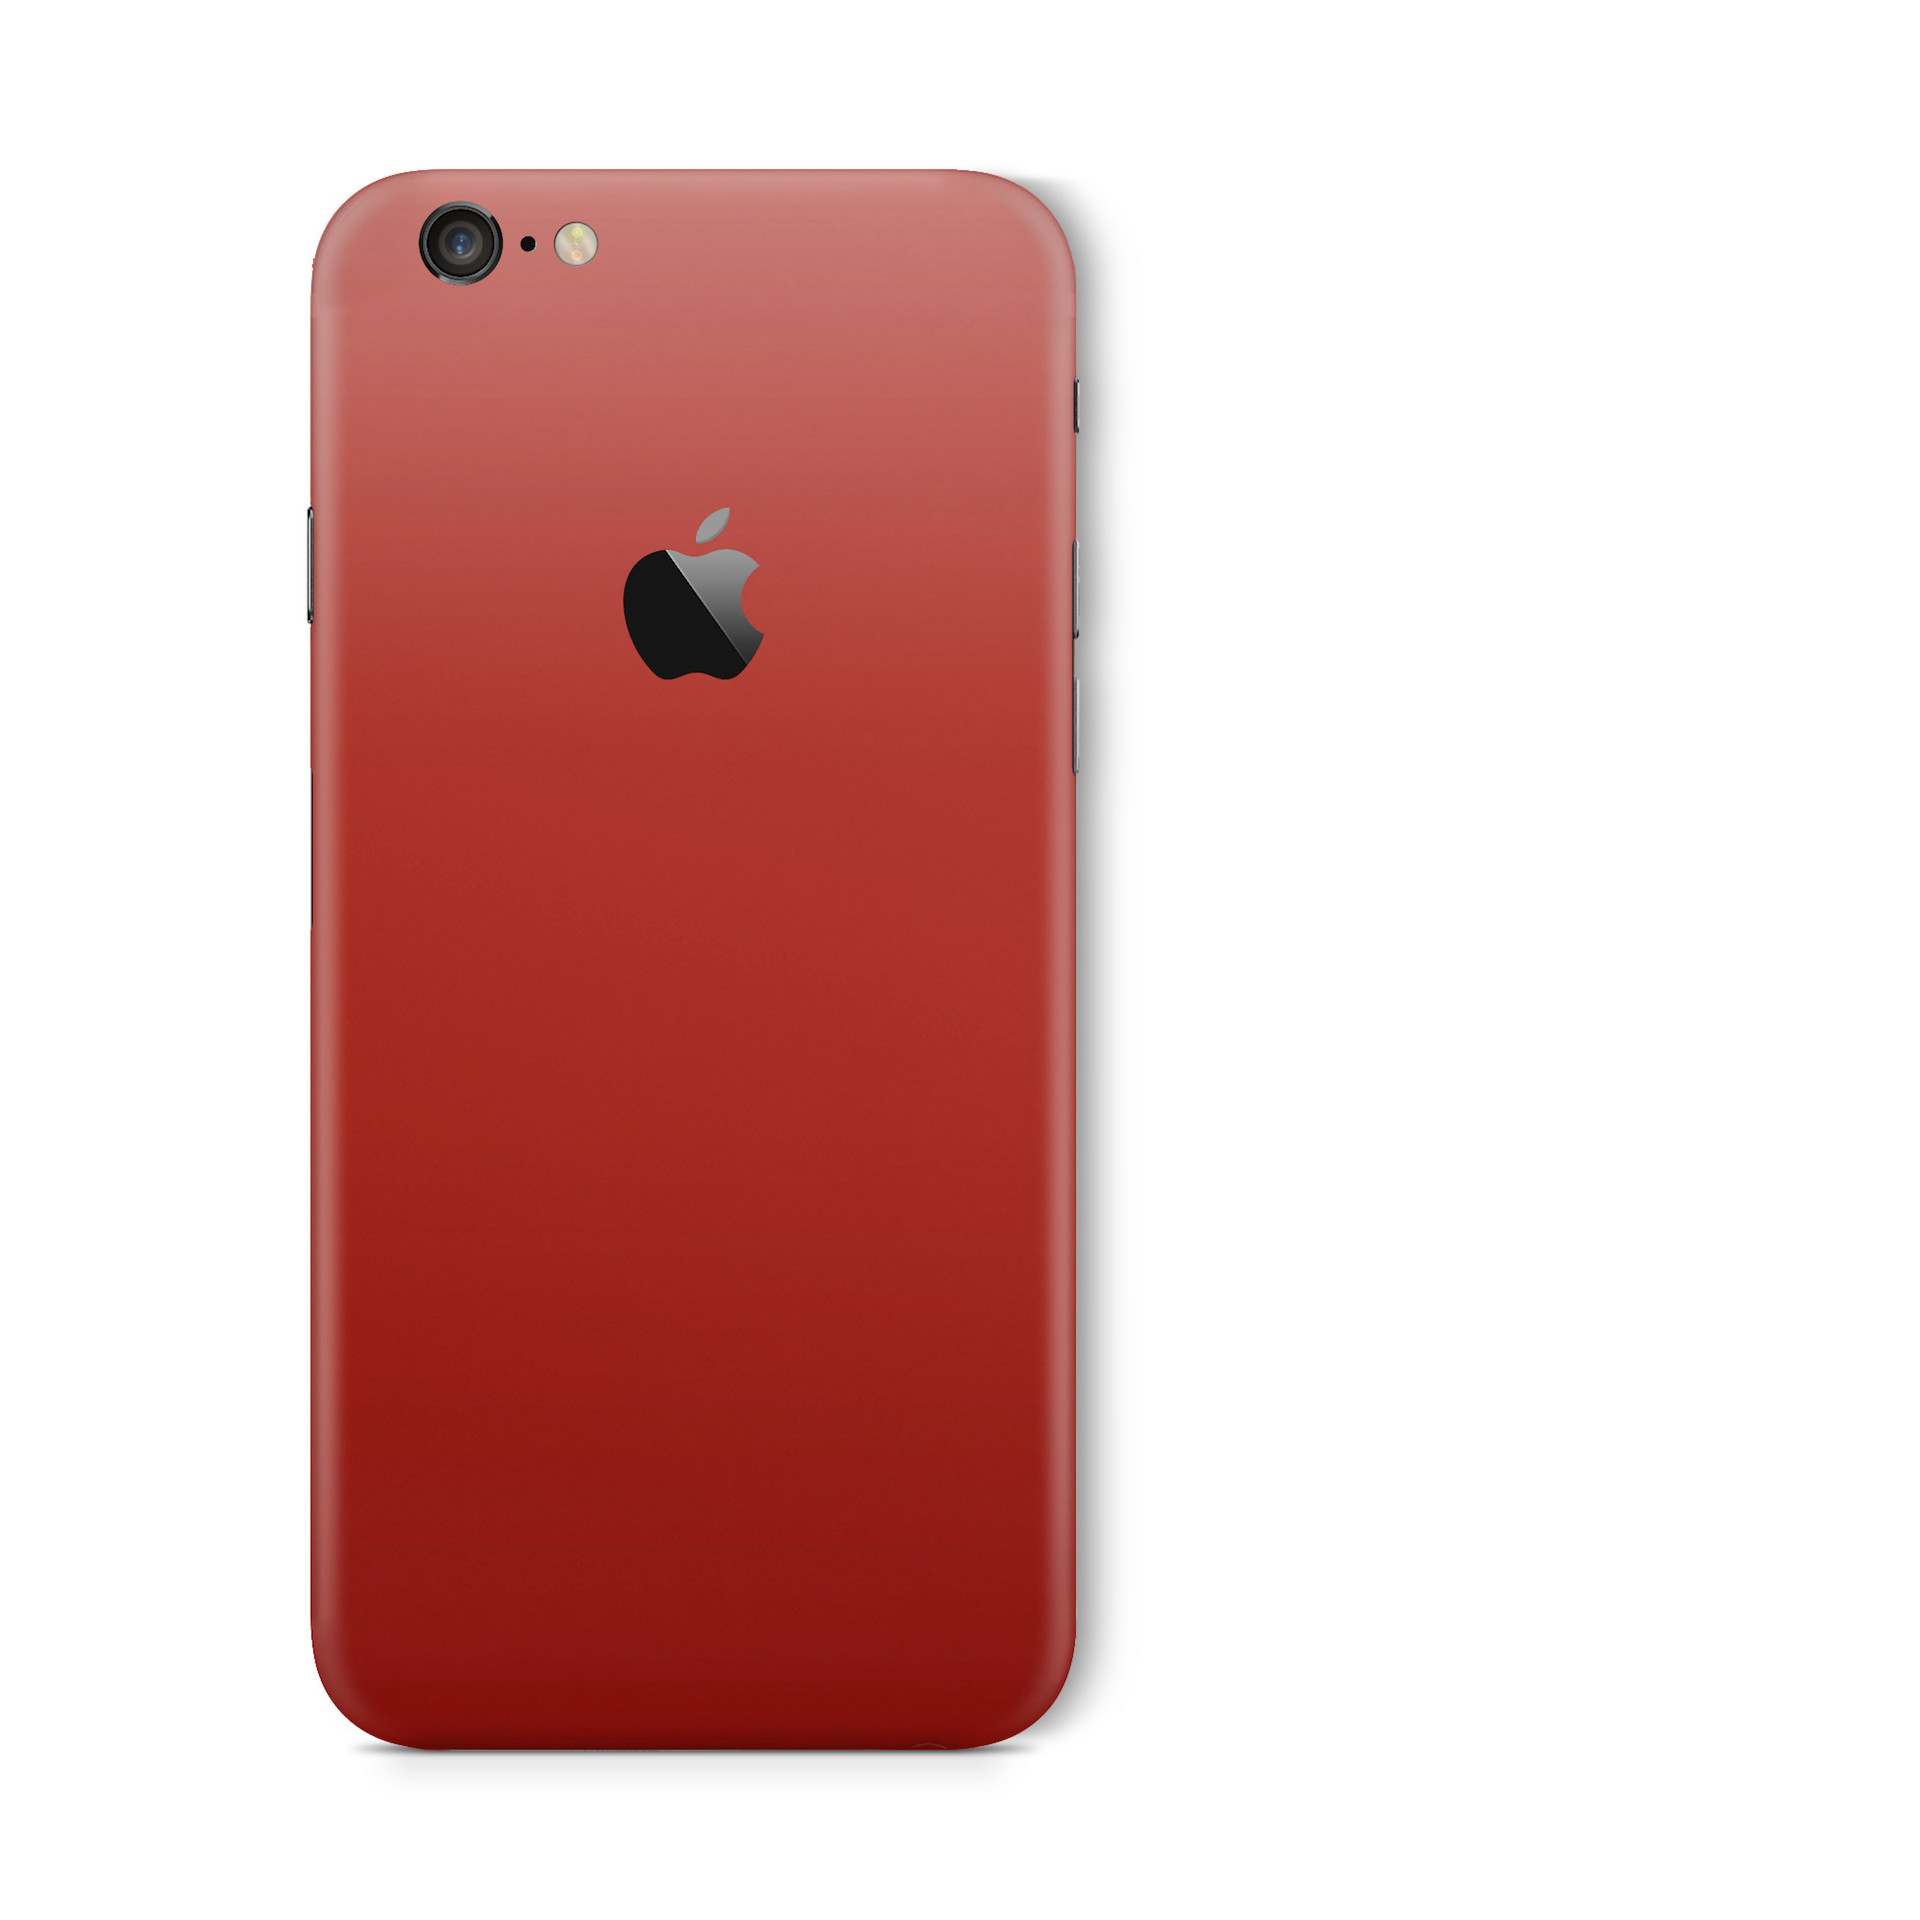smartphone: (304, 162, 1090, 1762)
